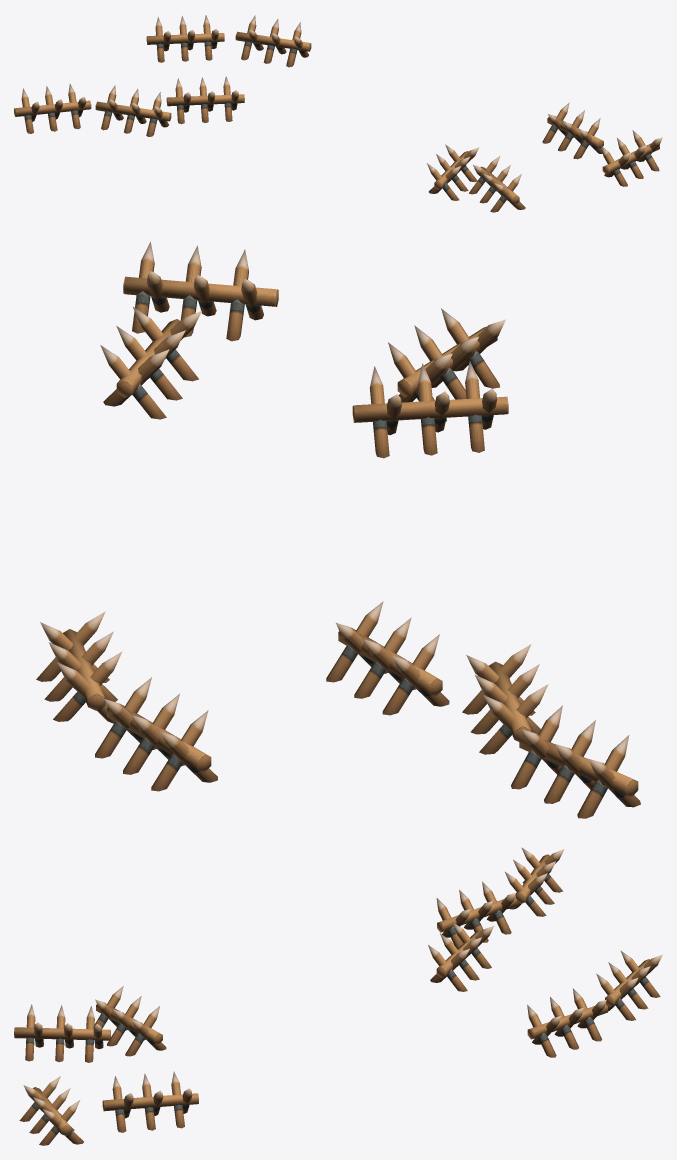
Rendered from area_11_17.fbx.
The picture shows the model from 3 angles, top to bottom: view 1: azimuth 30°, elevation 25°; view 2: azimuth 150°, elevation 25°; view 3: azimuth 270°, elevation 25°; orthographic projection. The views are drawn at different scales.
Visible parts, largest first — view 1: area_11_17; view 2: area_11_17; view 3: area_11_17.
Boxes of the visible parts, bbox=[...] form: area_11_17: bbox=[14, 15, 662, 212]; area_11_17: bbox=[36, 242, 640, 818]; area_11_17: bbox=[14, 847, 662, 1145].
Size of the model in its own units: 35.28 by 2.36 by 35.52.
